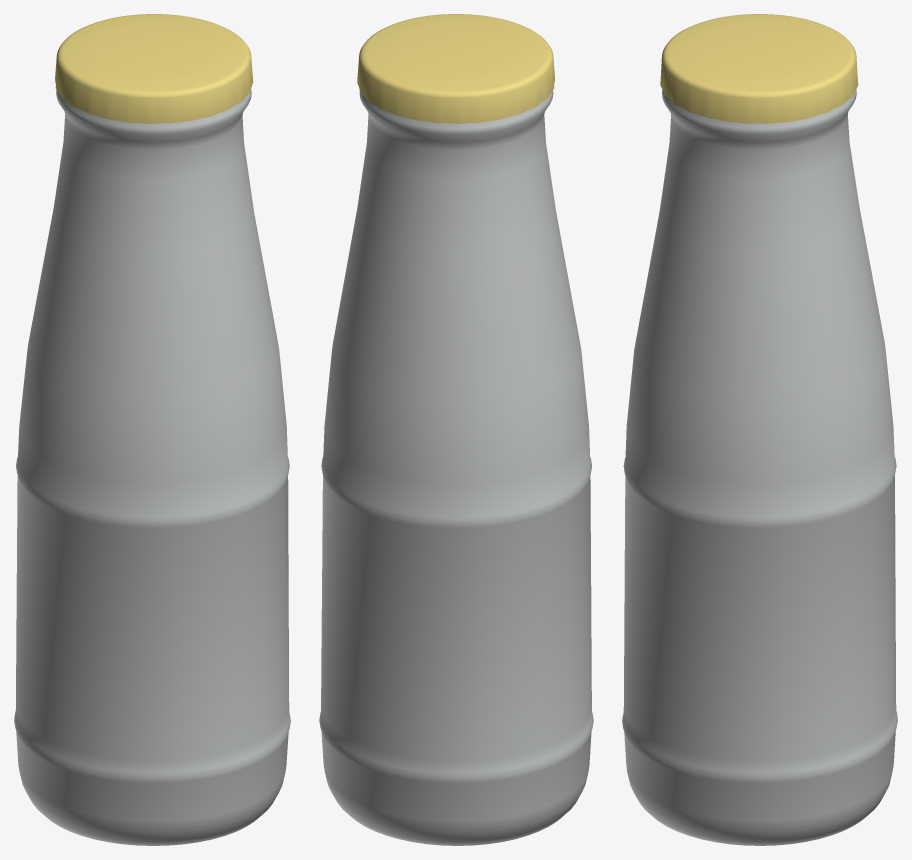
Rendered from bottle_milk.glb.
3 views of the same model, side by side, from view 1: azimuth 30°, elevation 25°; view 2: azimuth 150°, elevation 25°; view 3: azimuth 270°, elevation 25° (orthographic).
Parts seen in each view (by area): view 1: Glass, Cap; view 2: Glass, Cap; view 3: Glass, Cap.
Boxes of the visible parts, x1,y1,x2,y2 form: Glass: (14, 88, 290, 845); Cap: (55, 14, 253, 123); Glass: (319, 91, 593, 845); Cap: (357, 14, 554, 123); Glass: (622, 89, 897, 845); Cap: (660, 14, 858, 123).
Size of the model in its own units: 0.0745 by 0.224 by 0.0746.
